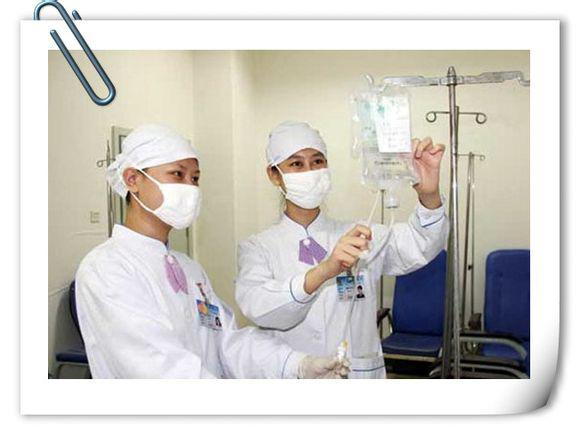OK: (135, 157, 206, 228), (279, 155, 330, 210)
